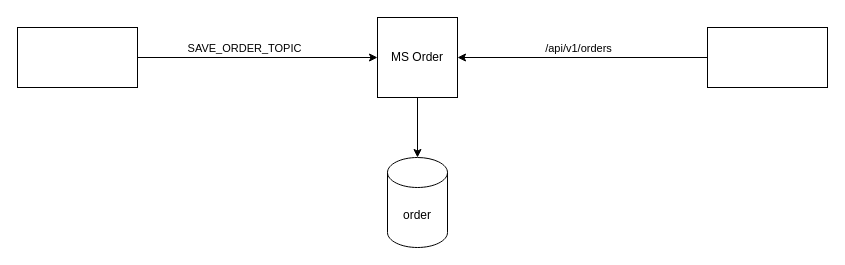
This 845x265 diagram has some shape labels left out. Here are the shapes that lost their labels. From the top down, the centre of each, then its label:
[77,57]: Produto Externo A (kafka-order-producer.py)
[767,57]: Produto Externo B (client http rest)
